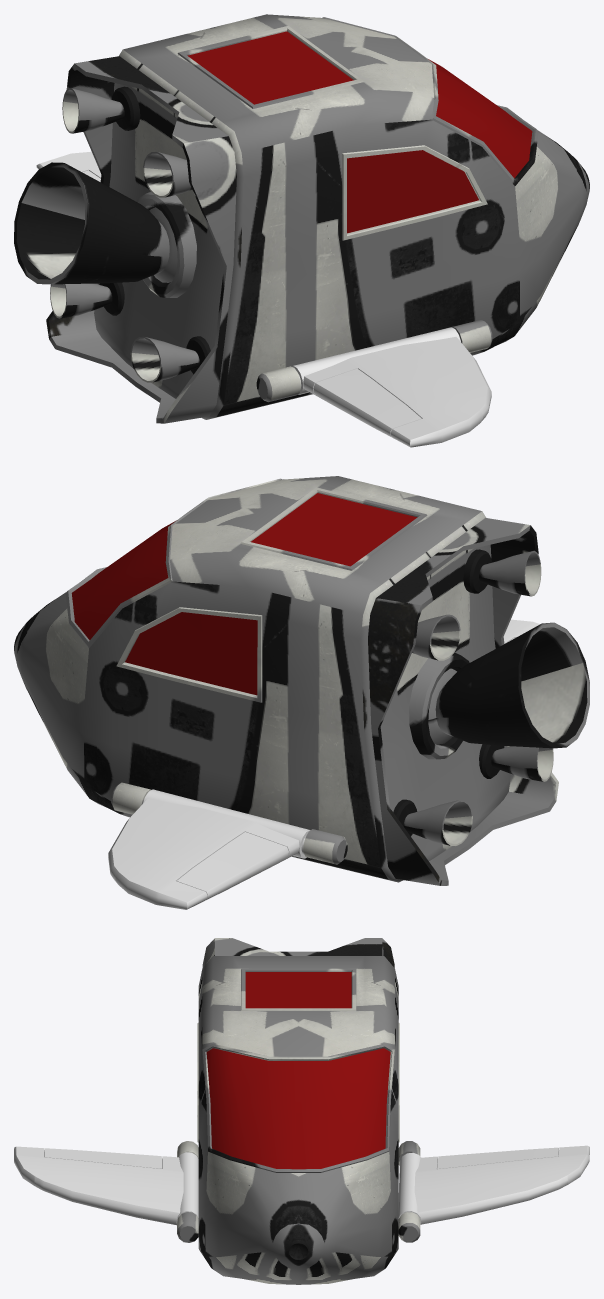
File: small_shuttle.FBX
3 views of the same model, one above another, from view 1: azimuth 30°, elevation 25°; view 2: azimuth 150°, elevation 25°; view 3: azimuth 270°, elevation 25° (orthographic). The views are drawn at different scales.
Visible parts, largest first — view 1: Object006, Object013, small_shuttle_right_wing, small_shuttle_left_wing; view 2: Object006, Object013, small_shuttle_left_wing; view 3: Object006, Object013, small_shuttle_left_wing, small_shuttle_right_wing.
Boxes of the visible parts, bbox=[...] form: Object006: bbox=[14, 14, 589, 423]; Object013: bbox=[187, 31, 532, 233]; small_shuttle_right_wing: bbox=[292, 327, 491, 447]; small_shuttle_left_wing: bbox=[36, 151, 101, 181]; Object006: bbox=[14, 476, 589, 885]; Object013: bbox=[71, 493, 417, 695]; small_shuttle_left_wing: bbox=[108, 789, 310, 909]; Object006: bbox=[177, 938, 420, 1284]; Object013: bbox=[206, 972, 390, 1169]; small_shuttle_left_wing: bbox=[398, 1145, 589, 1224]; small_shuttle_right_wing: bbox=[14, 1146, 198, 1225].
Bounding box in the file's own units: 122 × 62.55 × 144.
